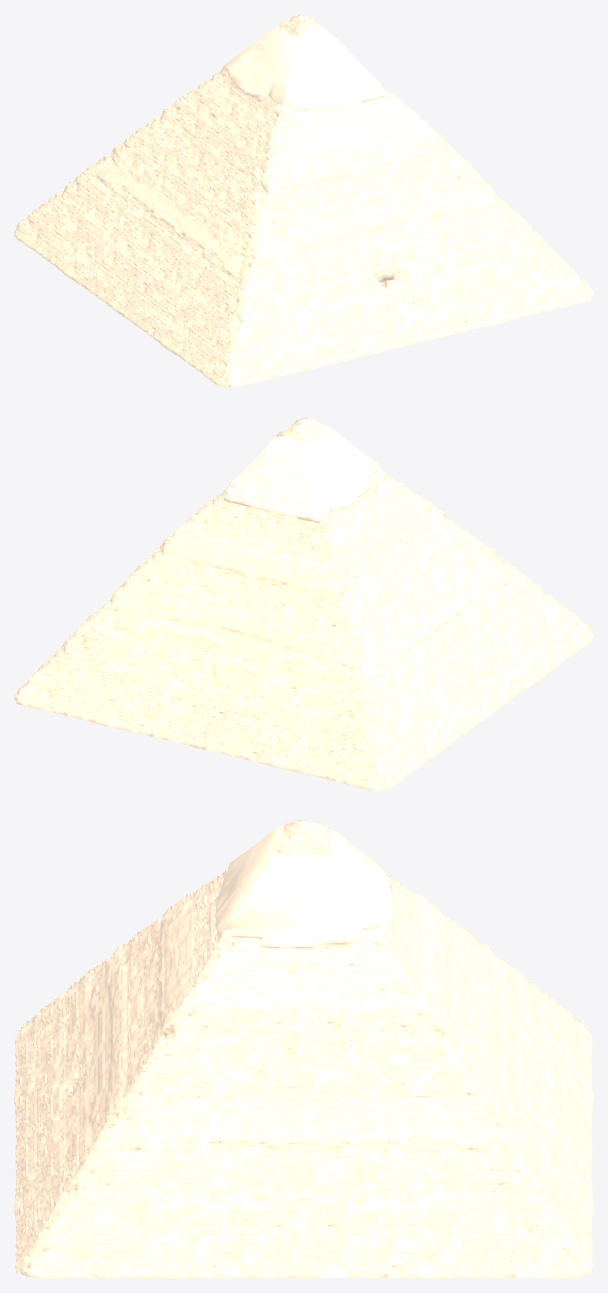
Rendered from 20250702_pyramyds_for_mb_pyramid2g.glb.
3 views of the same model, one above another, from view 1: azimuth 30°, elevation 25°; view 2: azimuth 150°, elevation 25°; view 3: azimuth 270°, elevation 25° (orthographic). The views are drawn at different scales.
Visible parts, largest first — view 1: khafre; view 2: khafre; view 3: khafre.
Part boxes in pixels (box(x1,y1,x2,y2)): khafre: box(14, 14, 593, 388); khafre: box(14, 417, 593, 791); khafre: box(14, 820, 593, 1278).
Bounding box in the file's own units: 217 × 136 × 216.
Materials: 1 (1 with a texture image).
